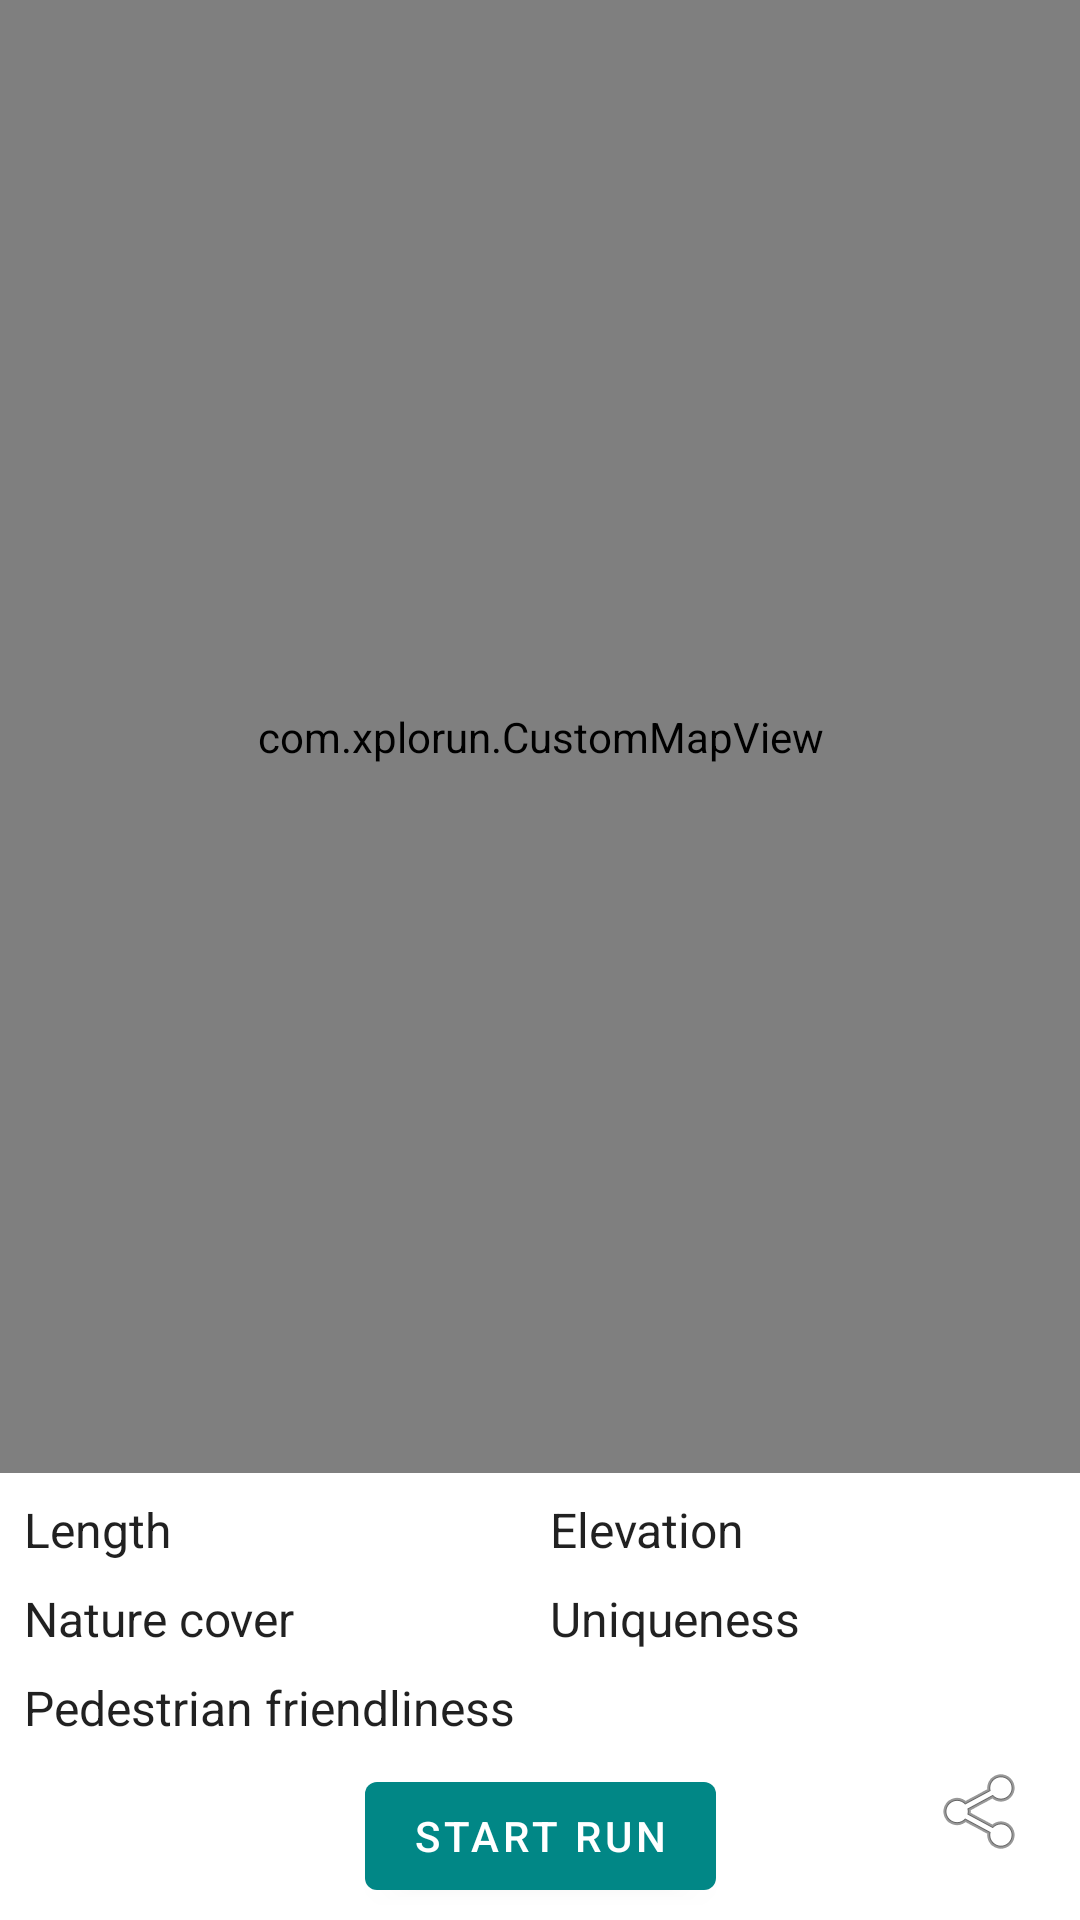

Locate icon controls on the screen. Image size 1080 x 1920, boxes as (x1, y1, x2, y2).
share: (943, 1774, 1015, 1849)
